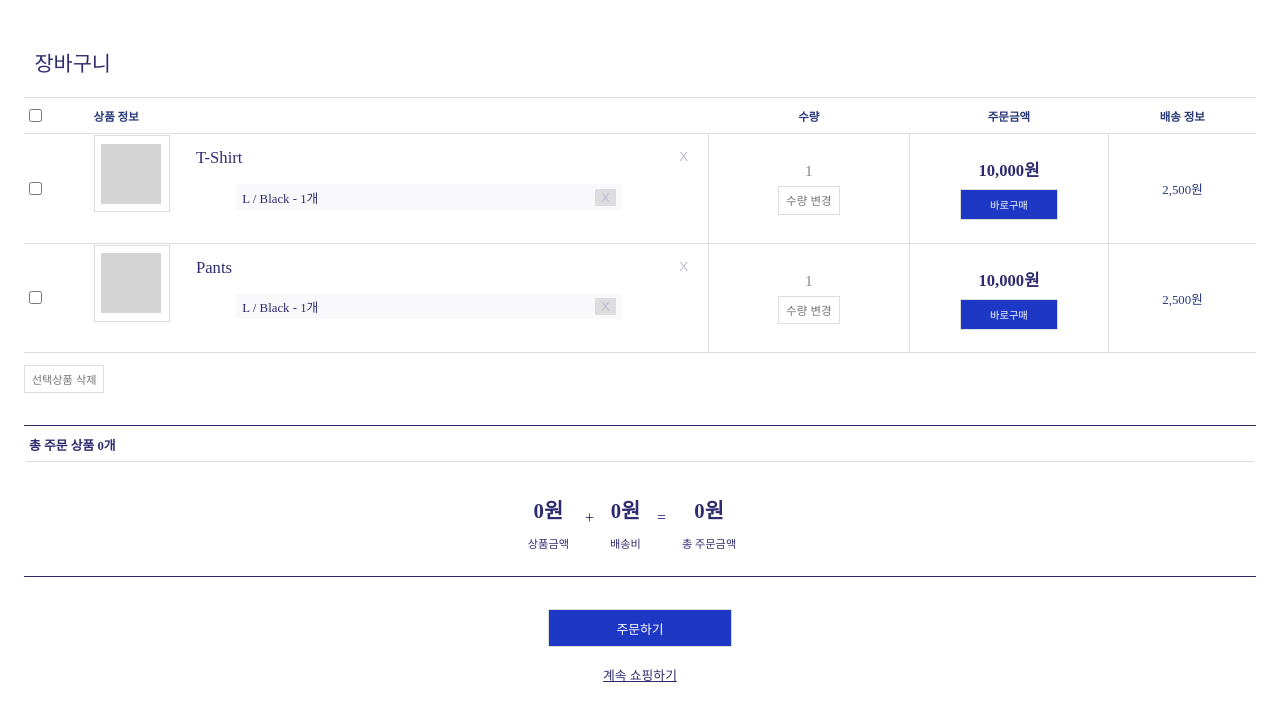
Cart › 선택상품 삭제 › 선택되어 있는 상품을 장바구니에서 삭제한다
The width and height of the screenshot is (1280, 720).
Click the checkbox named "Pants" below "Pants": (36, 298) [29, 291, 42, 304]
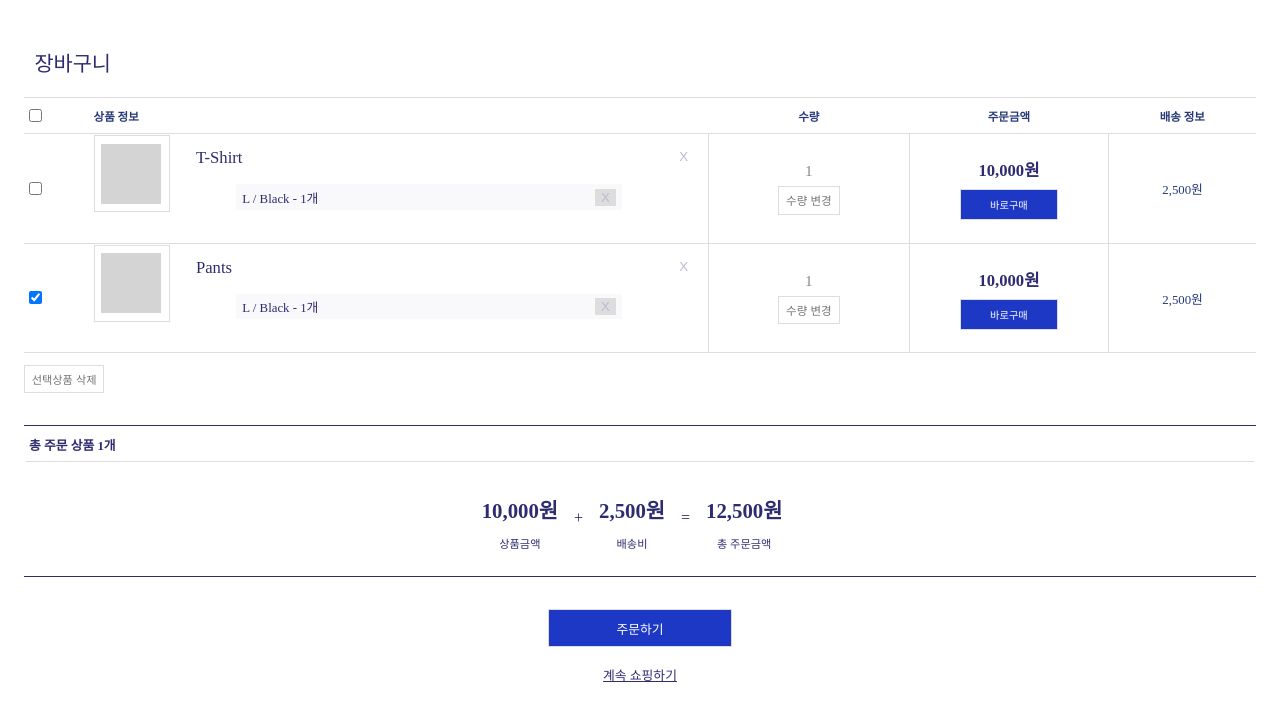
Expected: the checkbox named "Pants" below "Pants" is checked, [29, 291, 42, 304]
Click the button "선택상품 삭제": (64, 378) [24, 364, 104, 392]
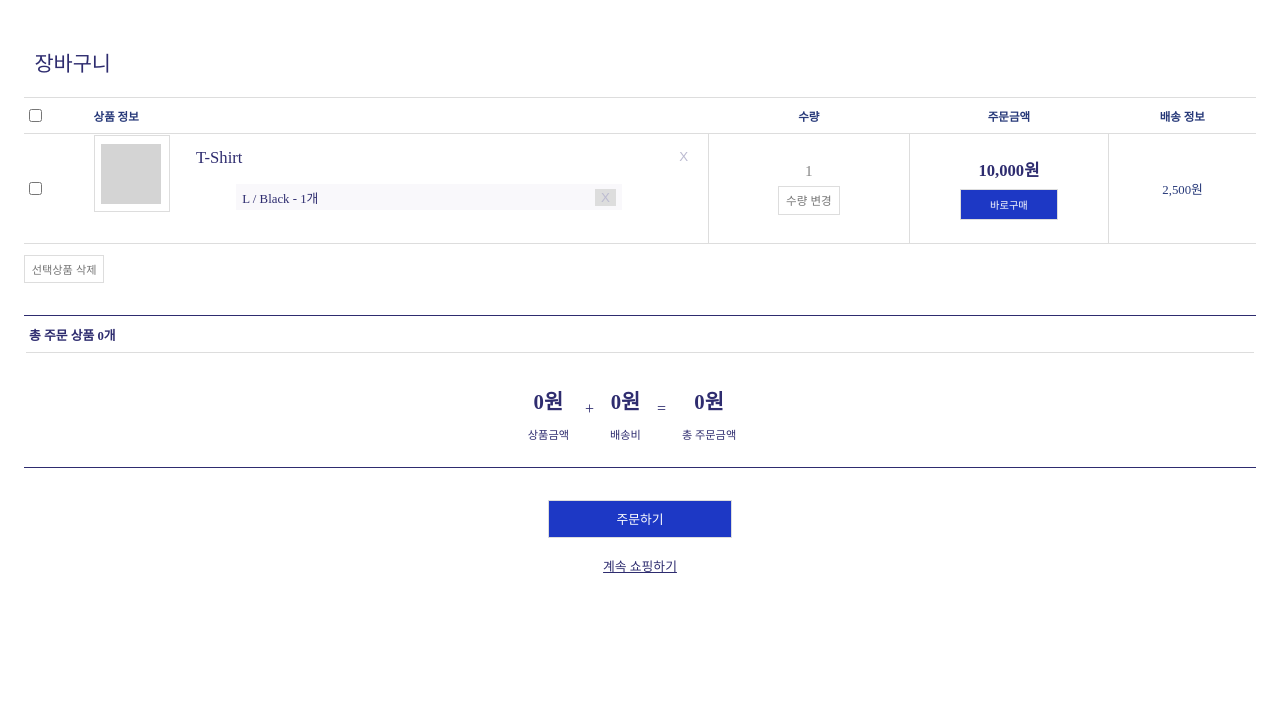
Expected: the text "Pants" is gone
